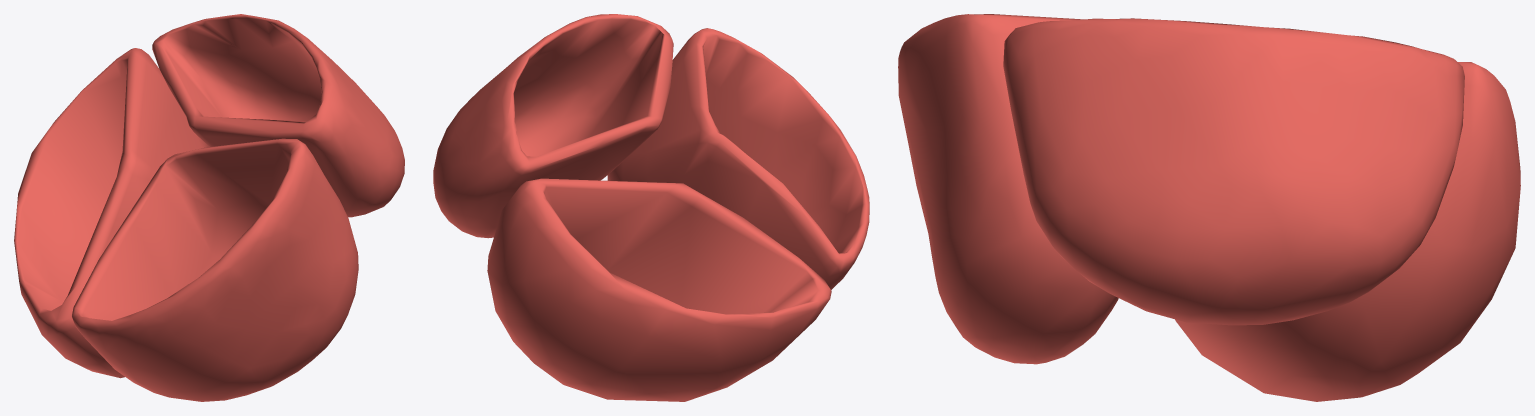
File: AorticInsufficiency.gltf
The picture shows the model from 3 angles, left to right: view 1: azimuth 30°, elevation 25°; view 2: azimuth 150°, elevation 25°; view 3: azimuth 270°, elevation 25°; orthographic projection. The views are drawn at different scales.
Visible parts, largest first — view 1: Left coronary leaflet.008; view 2: Left coronary leaflet.008; view 3: Left coronary leaflet.008.
Boxes of the visible parts, x1,y1,x2,y2 form: Left coronary leaflet.008: (14,14,404,401); Left coronary leaflet.008: (433,14,869,401); Left coronary leaflet.008: (898,14,1520,401).
Size of the model in its own units: 0.8198 by 0.6951 by 0.8495.
